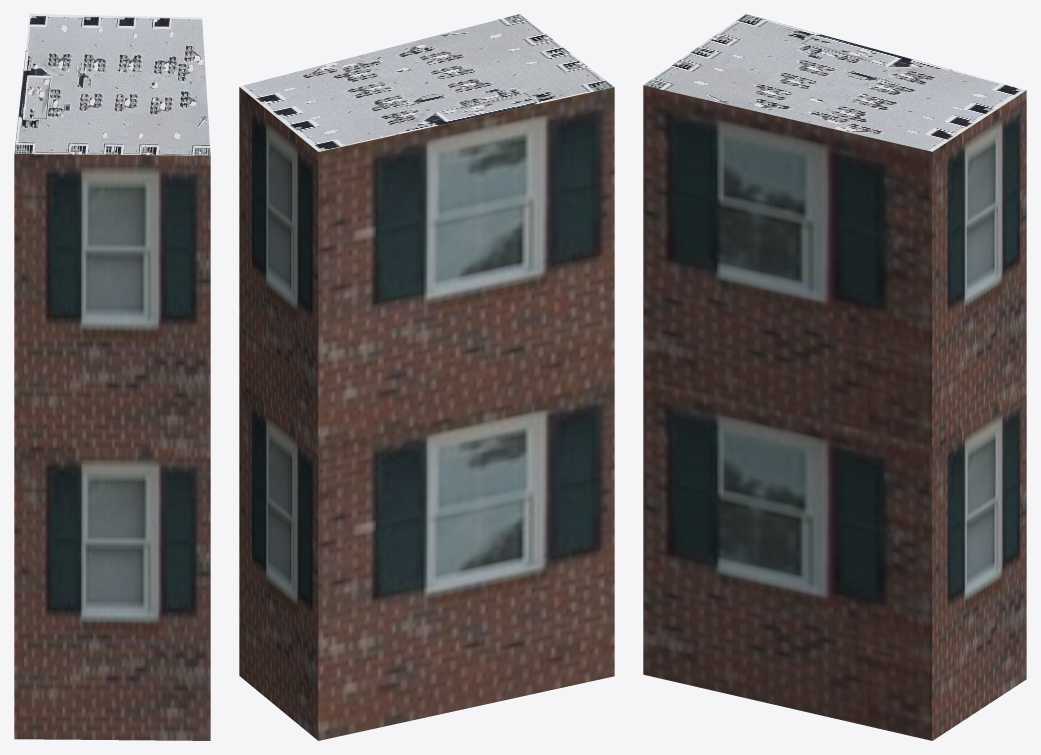
Rendered from ResTex__5219.fbx.
3 views of the same model, side by side, from view 1: azimuth 30°, elevation 25°; view 2: azimuth 150°, elevation 25°; view 3: azimuth 270°, elevation 25° (orthographic).
Parts seen in each view (by area): view 1: CityEngineMaterial_14_m, CityEngineMaterial_8_m; view 2: CityEngineMaterial_14_m, CityEngineMaterial_8_m; view 3: CityEngineMaterial_14_m, CityEngineMaterial_8_m.
Boxes of the visible parts, x1=… form: CityEngineMaterial_14_m: x1=14, y1=154, x2=210, y2=740; CityEngineMaterial_8_m: x1=14, y1=14, x2=210, y2=155; CityEngineMaterial_14_m: x1=239, y1=87, x2=614, y2=740; CityEngineMaterial_8_m: x1=239, y1=14, x2=614, y2=151; CityEngineMaterial_14_m: x1=643, y1=85, x2=1026, y2=740; CityEngineMaterial_8_m: x1=643, y1=14, x2=1026, y2=151.
Size of the model in its own units: 3.01 by 6 by 3.54.
Materials: 2 (2 with a texture image).
